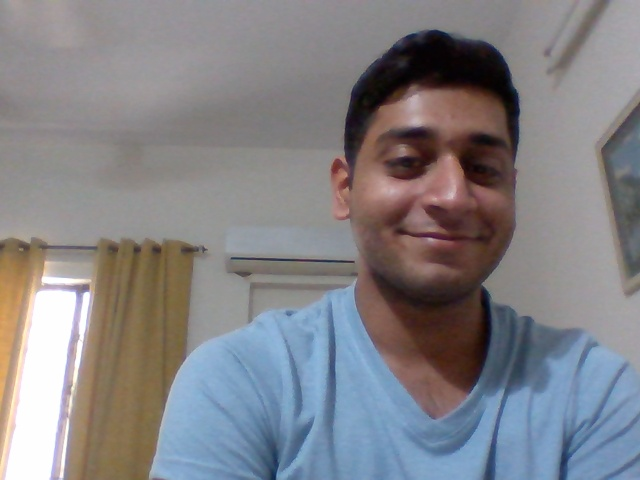happy: (320, 81, 555, 308)
